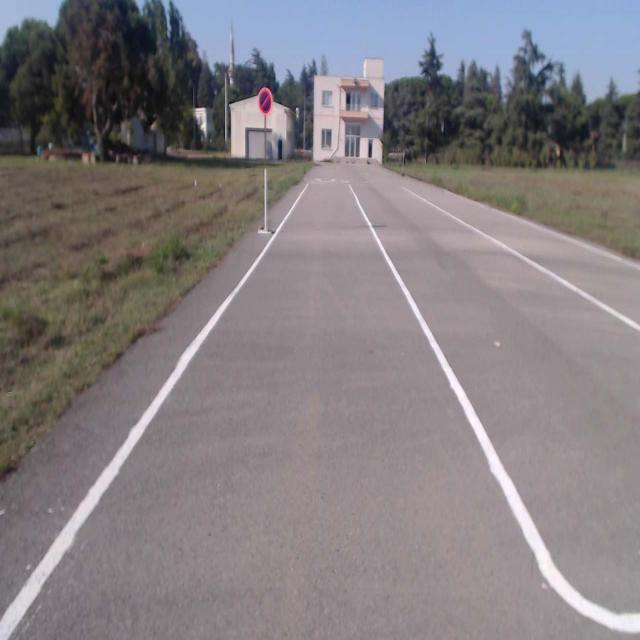parkyasak: (258, 87, 272, 114)
